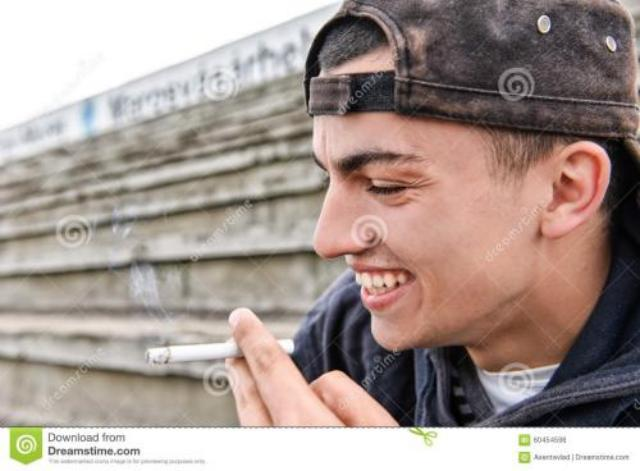Smoking: (136, 336, 302, 366)
